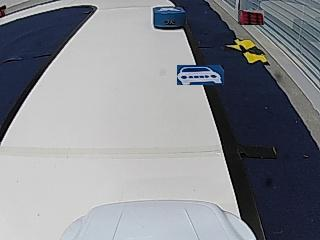prop: (154, 6, 186, 30)
